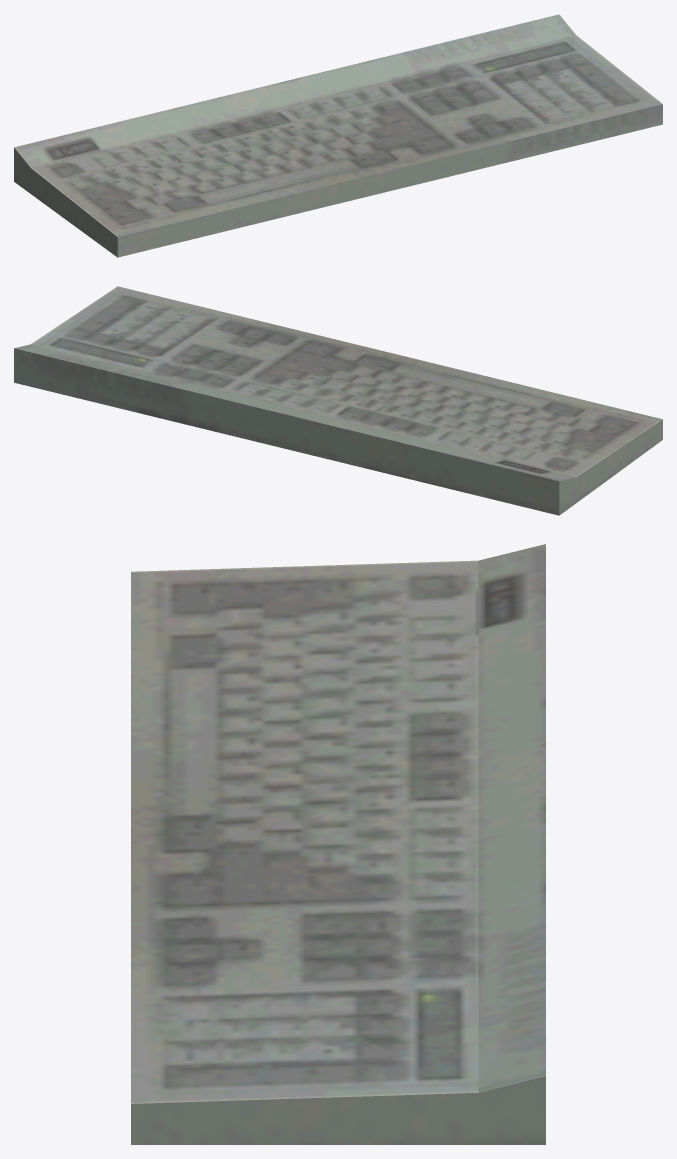
The model's file is computer_keyboard.fbx.
3 renders of one model, top to bottom at view 1: azimuth 30°, elevation 25°; view 2: azimuth 150°, elevation 25°; view 3: azimuth 270°, elevation 25°, orthographic. The views are drawn at different scales.
Parts seen in each view (by area): view 1: computer_keyboard; view 2: computer_keyboard; view 3: computer_keyboard.
Boxes of the visible parts, bbox=[...] form: computer_keyboard: bbox=[14, 14, 662, 257]; computer_keyboard: bbox=[14, 286, 662, 515]; computer_keyboard: bbox=[131, 544, 545, 1144].
Size of the model in its own units: 68.28 by 4.11 by 22.49.
